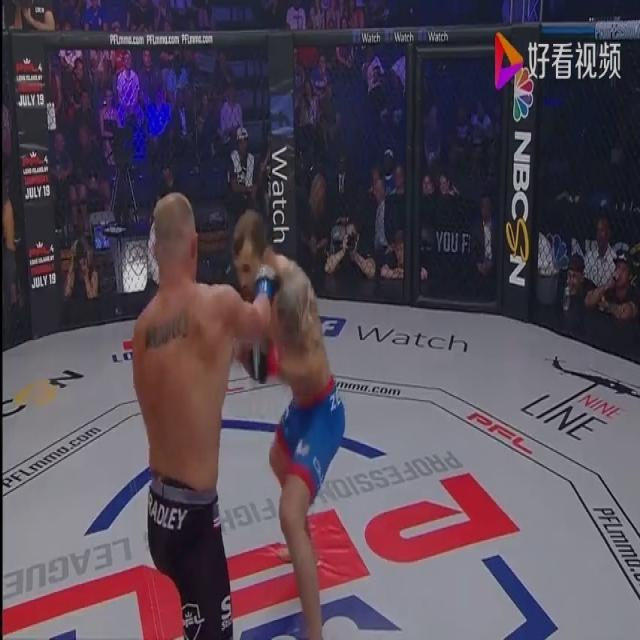fight: (123, 192, 356, 639)
